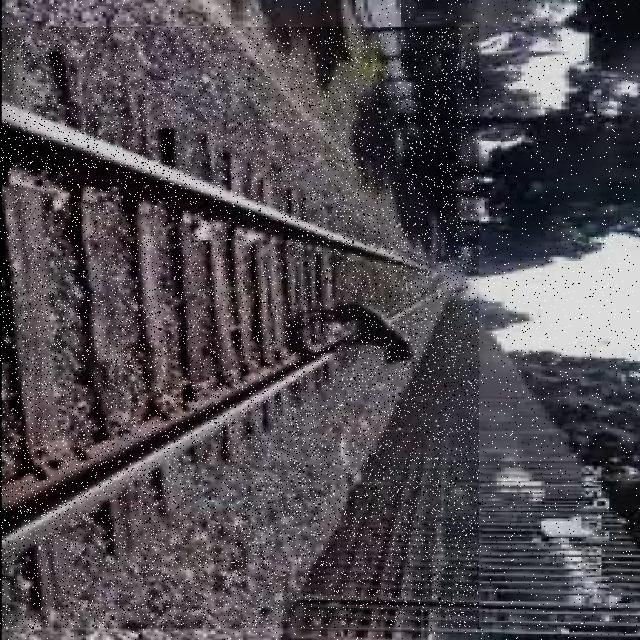rail: (1, 29, 480, 629)
